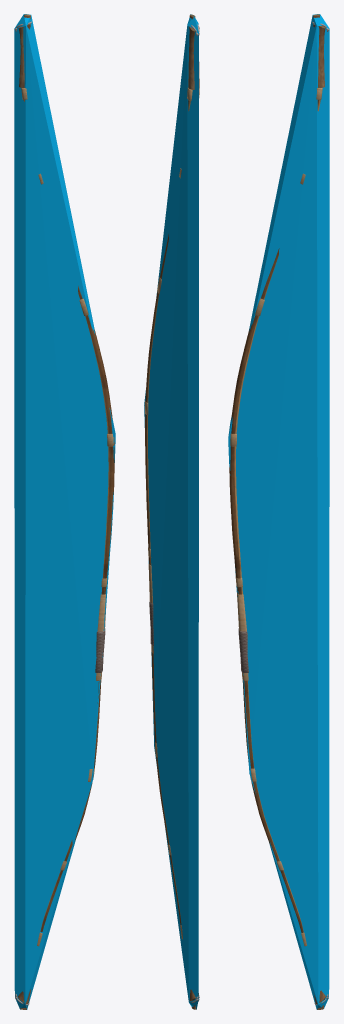
The model's file is JWC_Weapon_Yumi_A_02.fbx.
The picture shows the model from 3 angles, left to right: view 1: azimuth 90°, elevation 25°; view 2: azimuth 210°, elevation 25°; view 3: azimuth 270°, elevation 25°; orthographic projection.
Visible parts, largest first — view 1: C_JWC_Weapon_Yumi_A_02, JWC_Weapon_Yumi_A_02; view 2: C_JWC_Weapon_Yumi_A_02, JWC_Weapon_Yumi_A_02; view 3: C_JWC_Weapon_Yumi_A_02, JWC_Weapon_Yumi_A_02.
Boxes of the visible parts, bbox=[...] form: C_JWC_Weapon_Yumi_A_02: bbox=[14, 14, 115, 1009]; JWC_Weapon_Yumi_A_02: bbox=[14, 14, 114, 1009]; C_JWC_Weapon_Yumi_A_02: bbox=[144, 14, 198, 1009]; JWC_Weapon_Yumi_A_02: bbox=[145, 14, 199, 1009]; C_JWC_Weapon_Yumi_A_02: bbox=[228, 14, 329, 1009]; JWC_Weapon_Yumi_A_02: bbox=[229, 14, 329, 1009].
Size of the model in its own units: 0.0318 by 2.58 by 0.2383.
